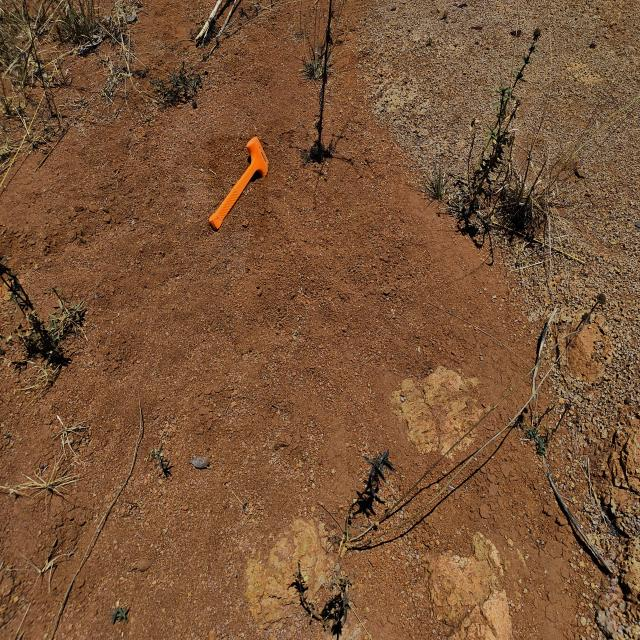Orange_hammer: (208, 135, 268, 232)
